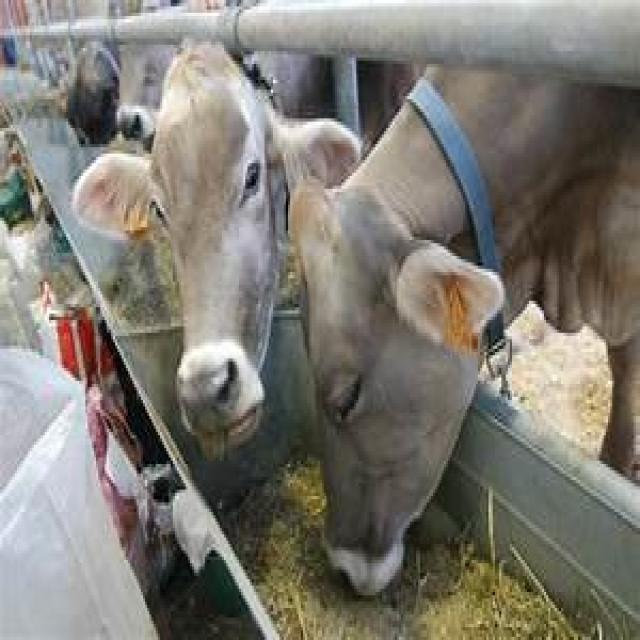cow: (288, 64, 640, 602), (147, 42, 363, 470)
